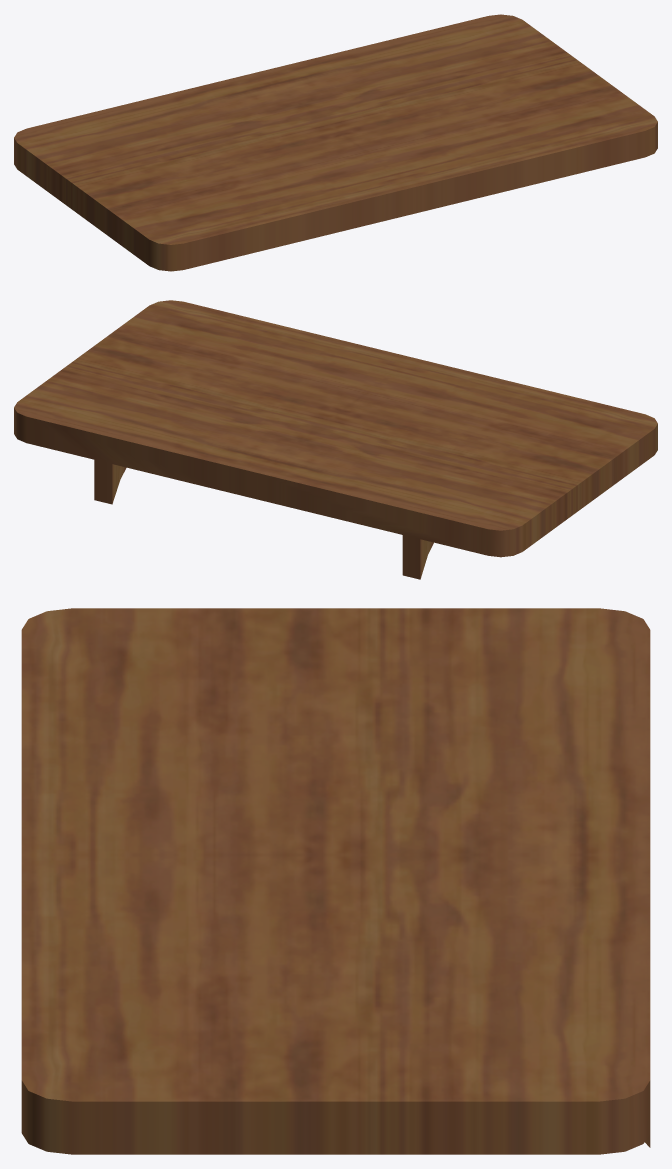
Rendered from CI_105_shelf_var1.glb.
3 views of the same model, one above another, from view 1: azimuth 30°, elevation 25°; view 2: azimuth 150°, elevation 25°; view 3: azimuth 270°, elevation 25° (orthographic). The views are drawn at different scales.
Parts seen in each view (by area): view 1: shelf; view 2: shelf; view 3: shelf.
Part boxes in pixels (<box>): shelf: <box>14,14,657,271</box>; shelf: <box>14,300,657,579</box>; shelf: <box>21,608,650,1154</box>.
Bounding box in the file's own units: 1.39 × 0.1765 × 0.75.
1 material, 1 textured.
